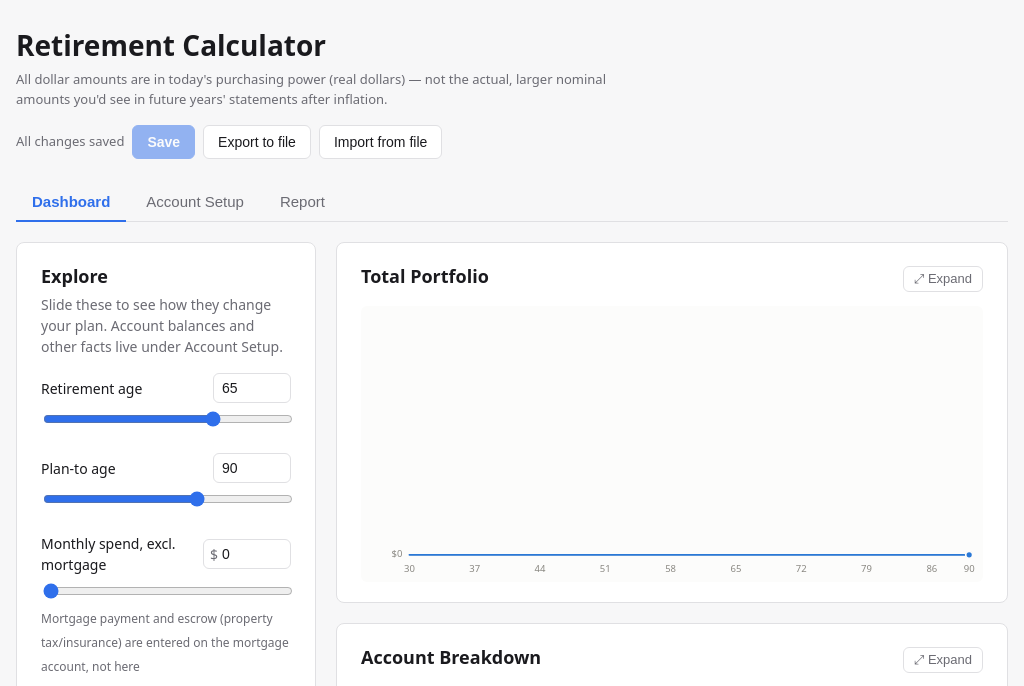
Scenario: App › updates the computed real return on the Setup tab when growth inputs change
Expected: the heading "Retirement Calculator" is shown, [16,26,326,64]
Click the tab "Account Setup".
click(195, 202)  # box [130,183,260,222]
(page scrolled)
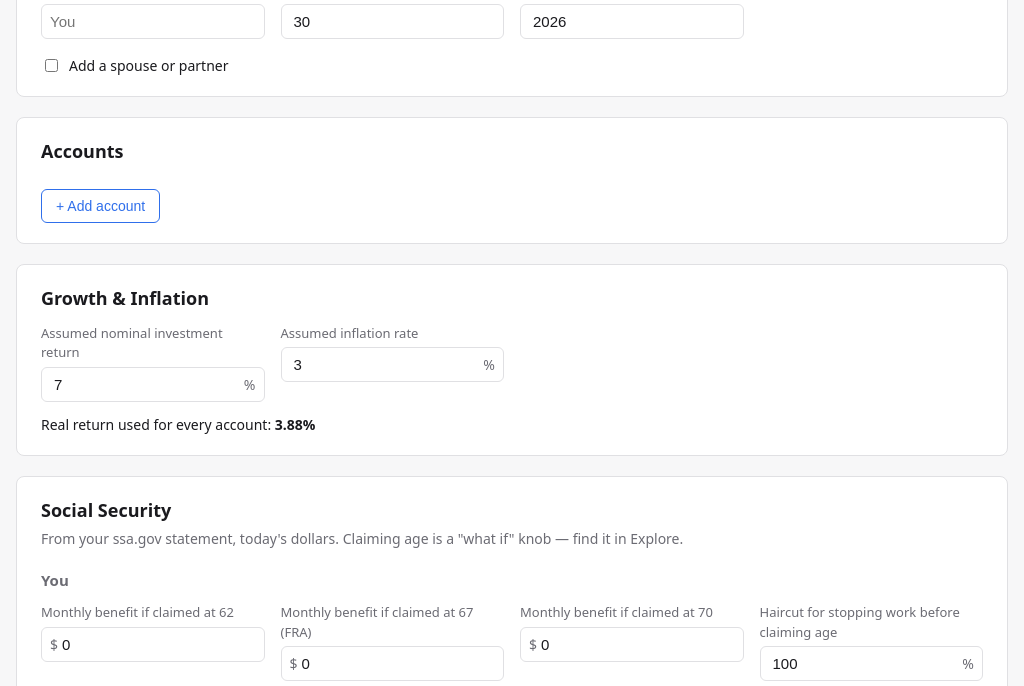
Expected: the text "Real return used for every account: 3.88%" is shown, [41,414,316,434]
Replace the text in the number field labelled "Assumed nominal investment return %" with "5" at (147, 384), box [50,368,244,400]
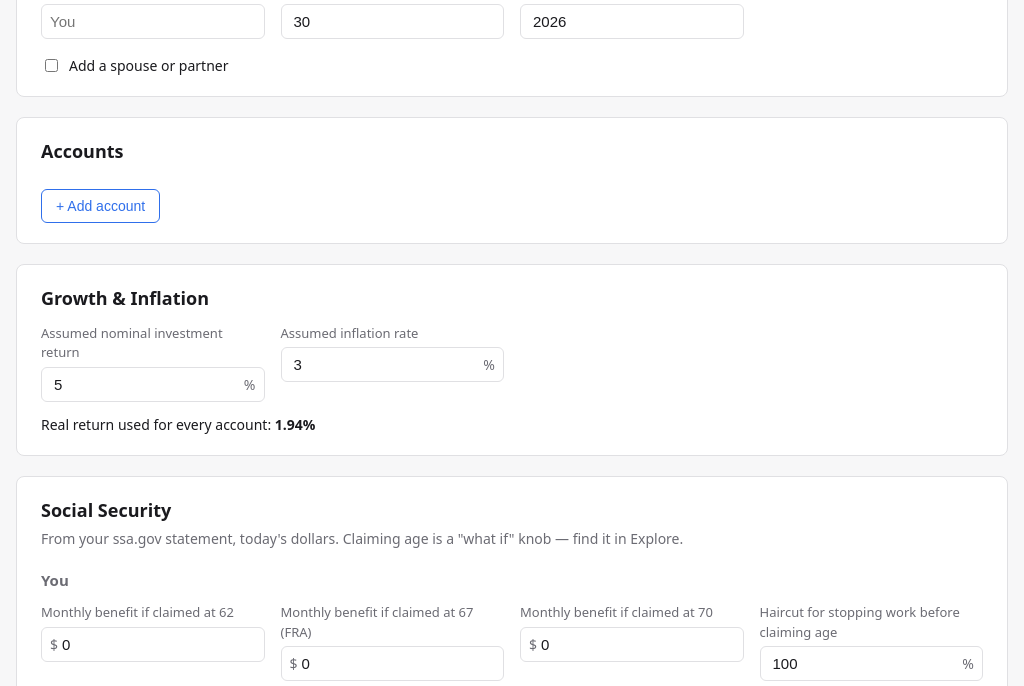
Expected: the text "Real return used for every account: 1.94%" is shown, [41,414,316,434]
